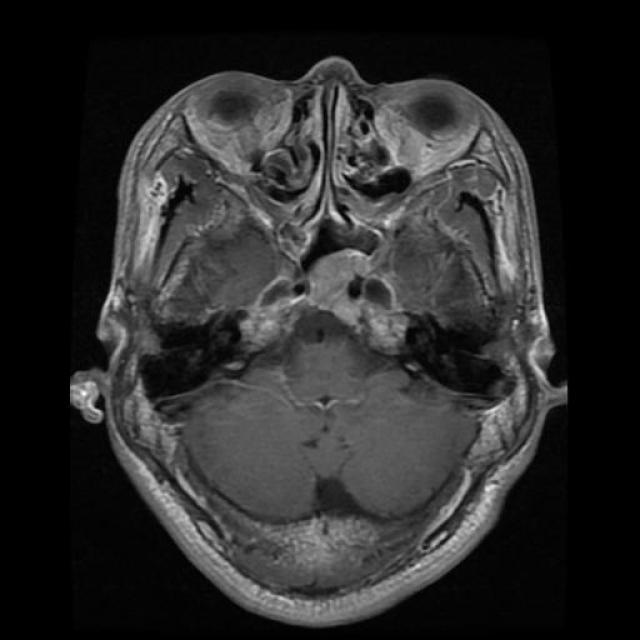pituitary: (270, 248, 403, 347)
